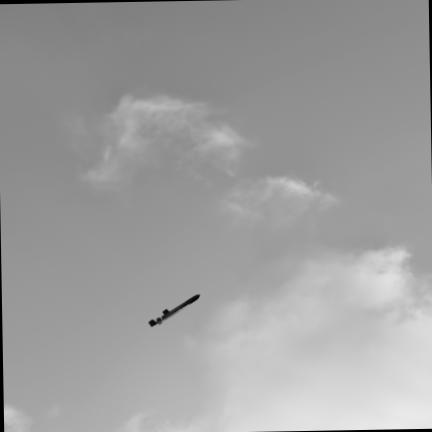Shahed: (147, 293, 200, 327)
